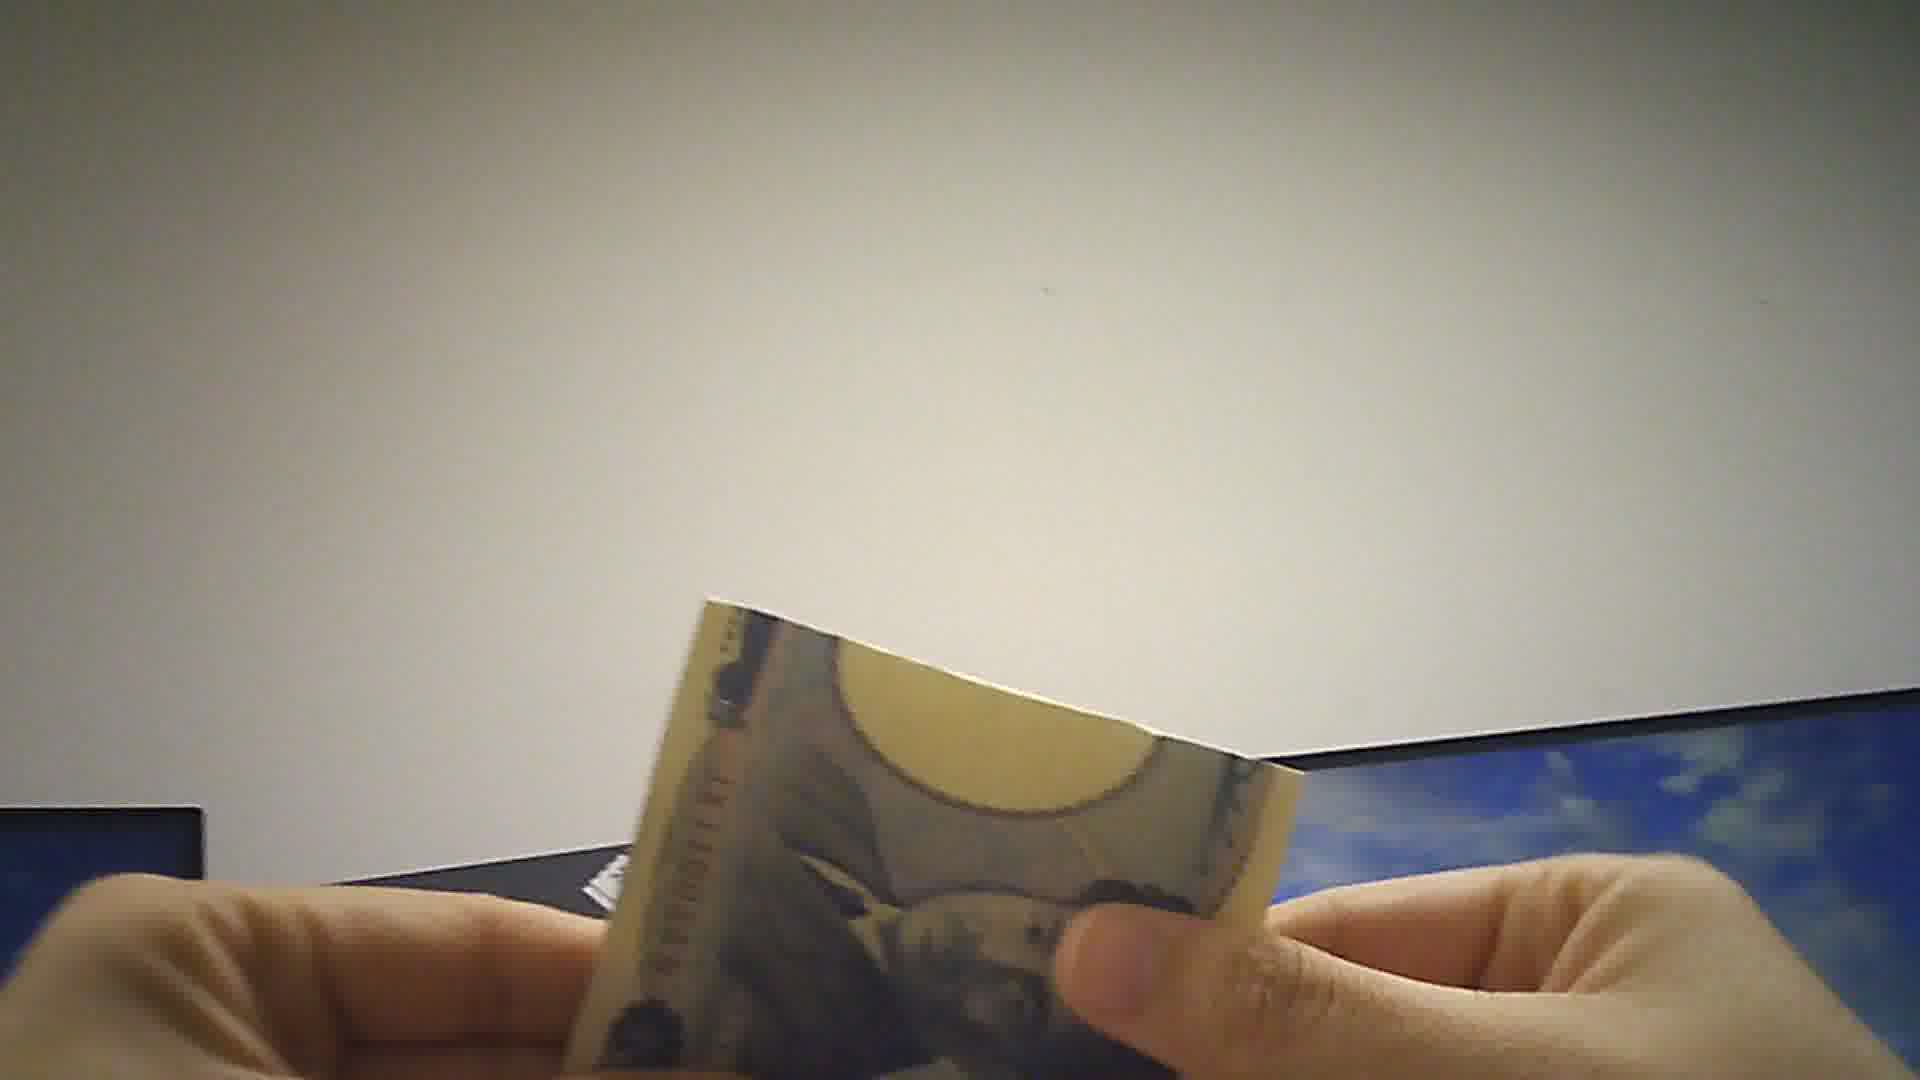1,000 Yen: (574, 608, 1284, 1079)
